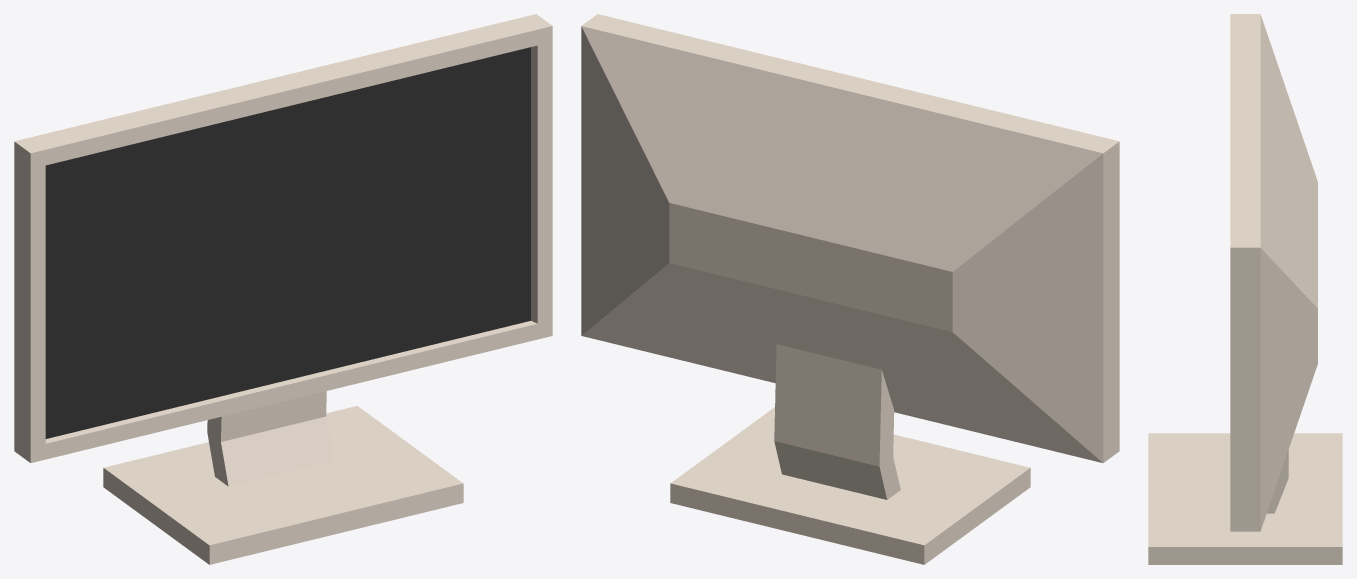
Rendered from Monoblock.fbx.
3 views of the same model, side by side, from view 1: azimuth 30°, elevation 25°; view 2: azimuth 150°, elevation 25°; view 3: azimuth 270°, elevation 25° (orthographic). The views are drawn at different scales.
Parts seen in each view (by area): view 1: Monoblock; view 2: Monoblock; view 3: Monoblock.
Boxes of the visible parts, x1=… form: Monoblock: x1=14, y1=14, x2=552, y2=564; Monoblock: x1=581, y1=14, x2=1119, y2=564; Monoblock: x1=1148, y1=14, x2=1342, y2=564.
Size of the model in its own units: 0.7105 by 0.5352 by 0.25.
